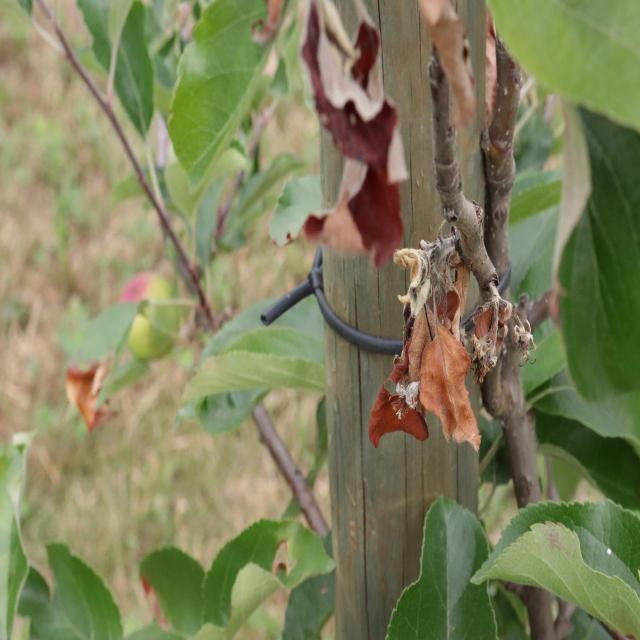-FireBlight-: (303, 0, 530, 451)
